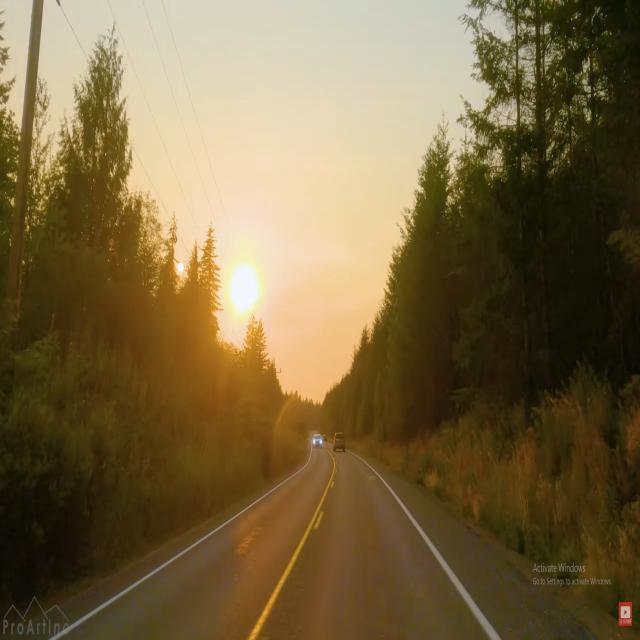sun: (221, 238, 270, 330)
